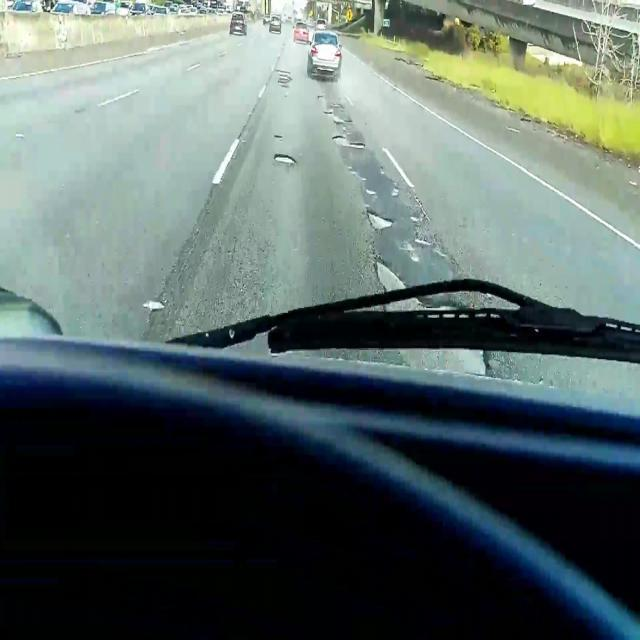pothole: (375, 258, 476, 312), (395, 345, 491, 377), (365, 209, 396, 231), (332, 135, 366, 150), (274, 154, 298, 165), (278, 75, 292, 86), (275, 71, 291, 75)
